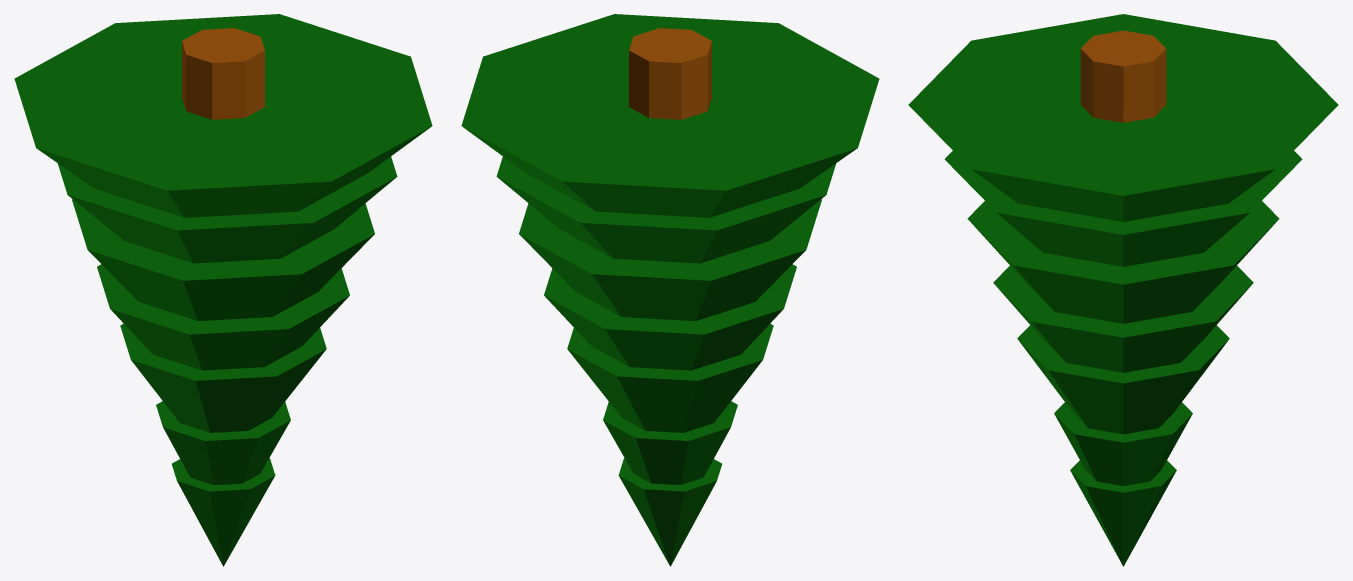
File: pineTree.fbx
The picture shows the model from 3 angles, left to right: view 1: azimuth 30°, elevation 25°; view 2: azimuth 150°, elevation 25°; view 3: azimuth 270°, elevation 25°; orthographic projection.
Visible parts, largest first — view 1: pineTree; view 2: pineTree; view 3: pineTree.
Boxes of the visible parts, x1=… form: pineTree: x1=14, y1=14, x2=432, y2=566; pineTree: x1=461, y1=14, x2=879, y2=566; pineTree: x1=908, y1=14, x2=1338, y2=566.
Size of the model in its own units: 1008 by 1339 by 1008.
